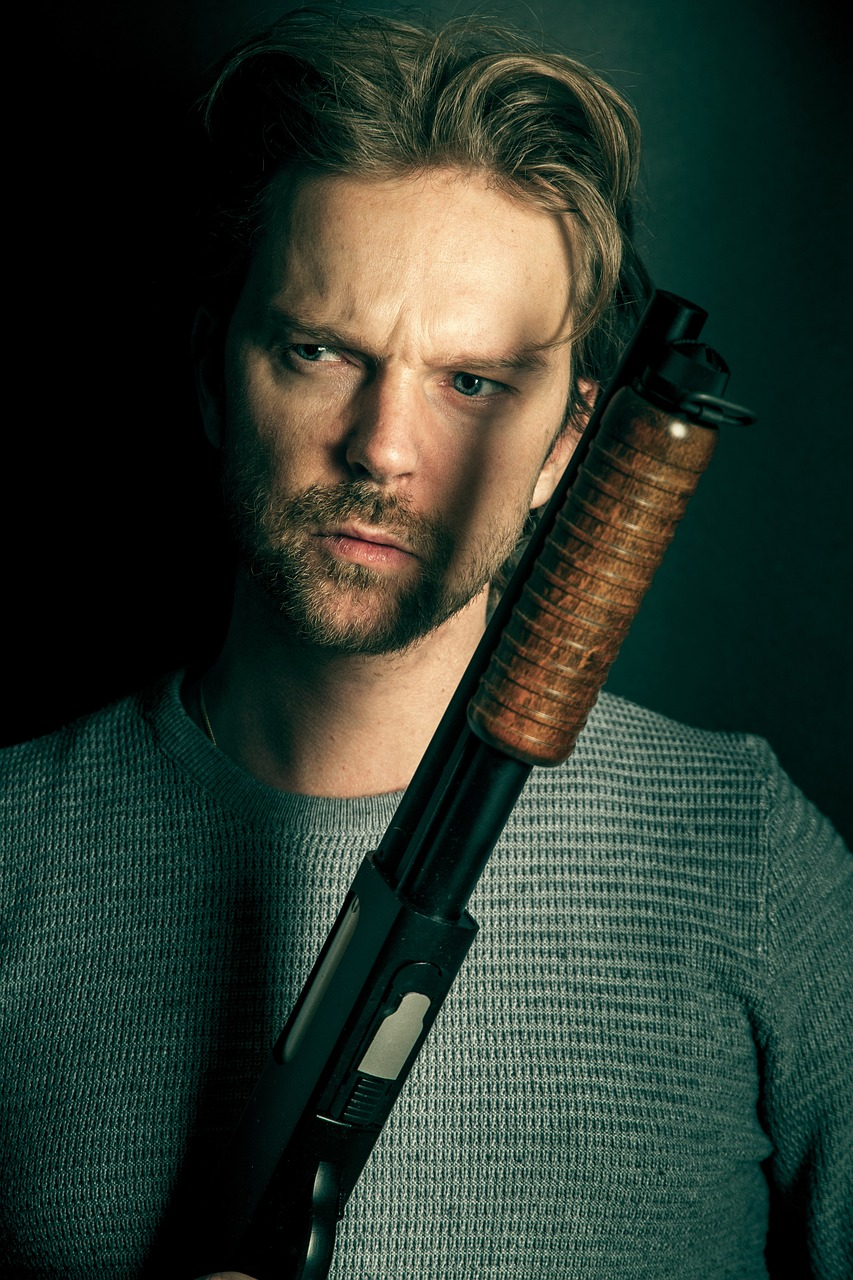gun: (130, 284, 767, 1280)
